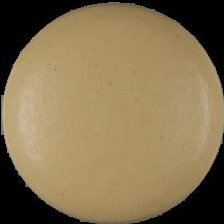50436-8101: (0, 0, 224, 224)
